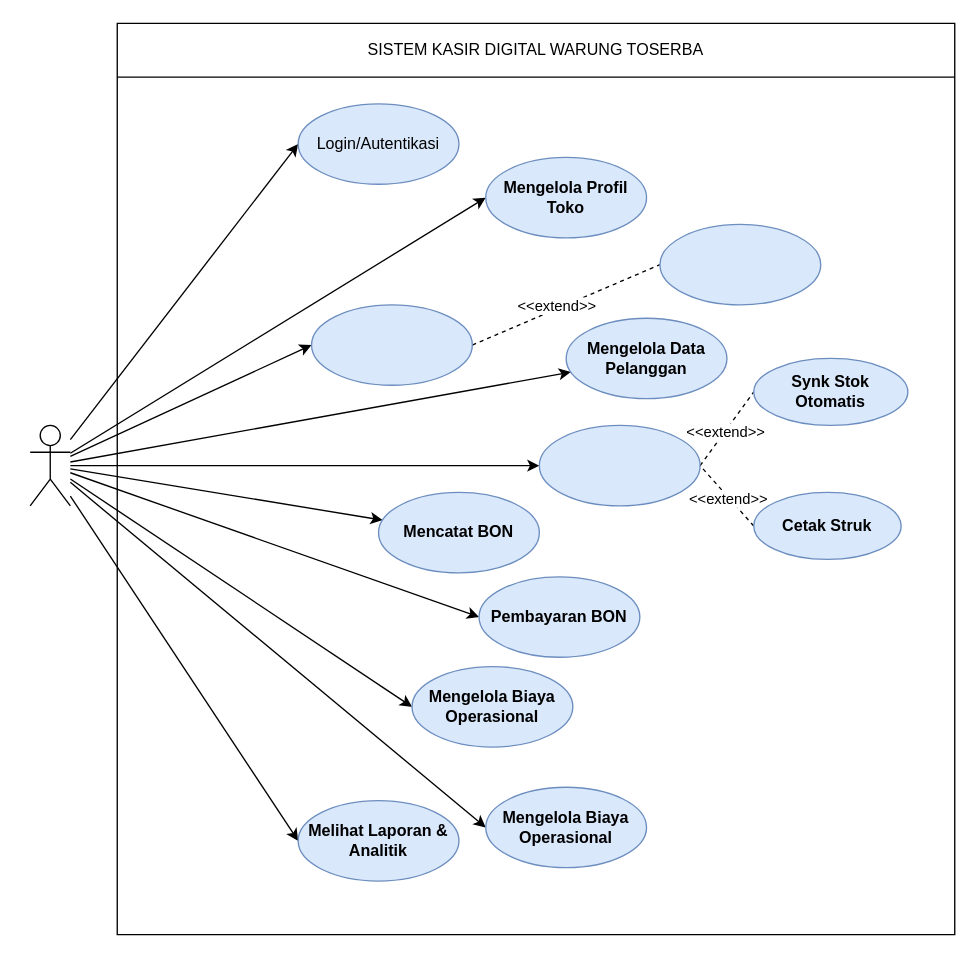
This 978x958 diagram has some shape labels left out. Each missing label, with the centre of its shape:
Alert Stok Rendah: [740,264]
Melakukan Transaksi Kasir: [619,465]
Mengelola Data Produk (Stok): [391,344]
Penjual: [49,465]
